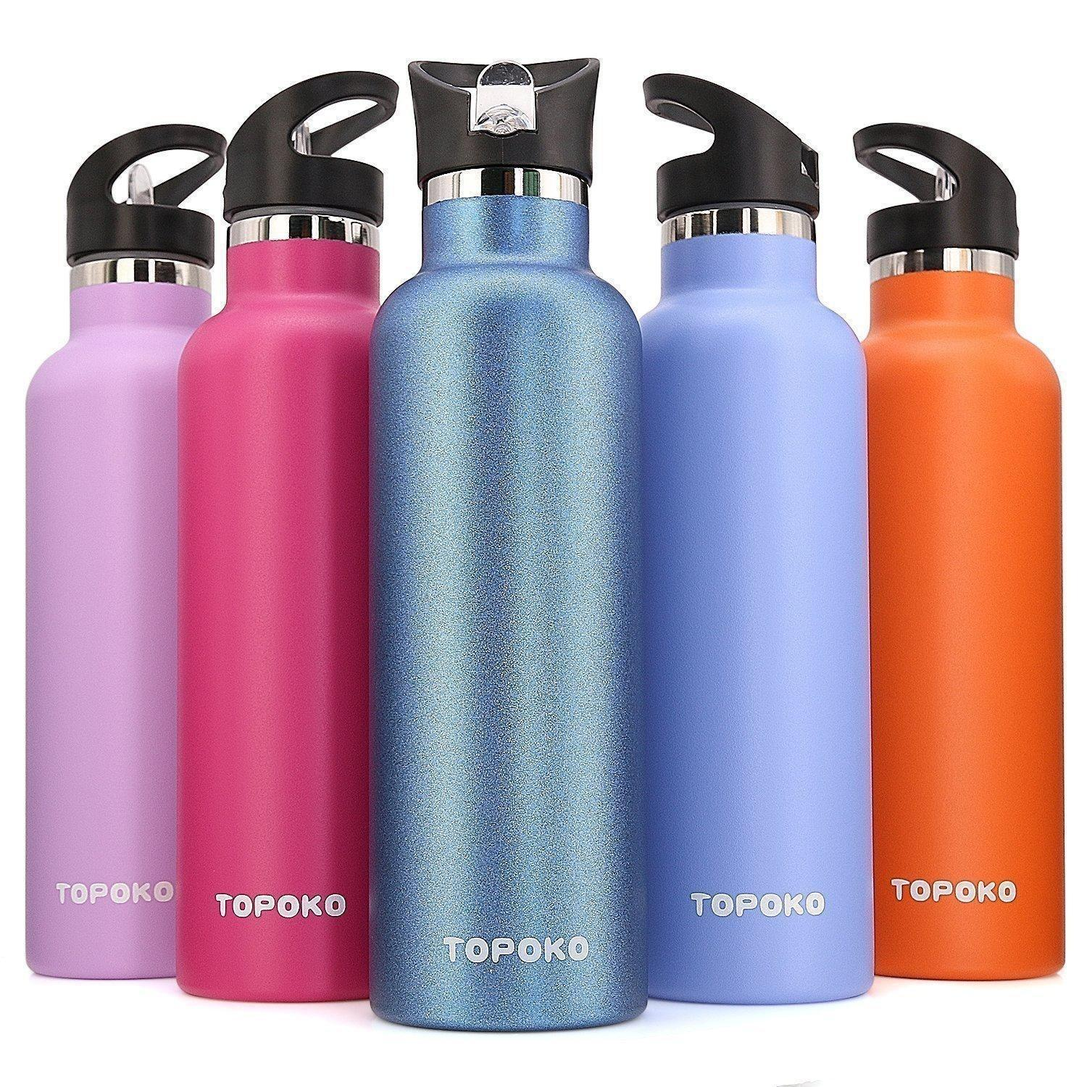gym bottle: (365, 54, 648, 1034), (630, 67, 877, 1015), (170, 67, 392, 1013), (855, 114, 1071, 991), (16, 117, 222, 988)
